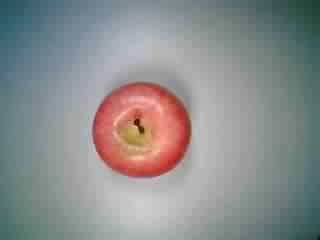apple: (90, 77, 195, 179)
